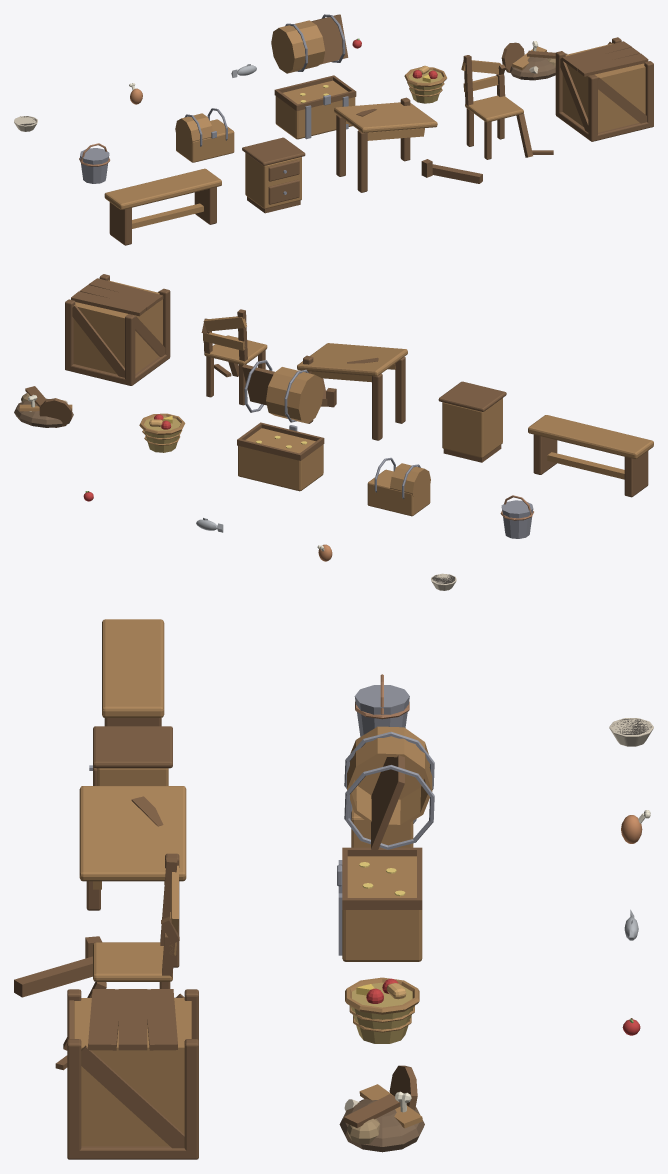
The model's file is Assets 3.glb.
3 views of the same model, one above another, from view 1: azimuth 30°, elevation 25°; view 2: azimuth 150°, elevation 25°; view 3: azimuth 270°, elevation 25° (orthographic). The views are drawn at different scales.
Parts seen in each view (by area): view 1: CrateLarge.001, BrokenTable.001, Bench.001, Nightstand.001, ChestOpen_Base, BrokenChair.001, ChestOpen_Lid.001, ChestSmall.001, JunkPile.001, BasketFood.001, BucketMetal.001; view 2: CrateLarge.001, Bench.001, BrokenTable.001, ChestOpen_Base, Nightstand.001, ChestOpen_Lid.001, BrokenChair.001, ChestSmall.001, JunkPile.001, BasketFood.001, BucketMetal.001; view 3: CrateLarge.001, BrokenTable.001, ChestOpen_Base, ChestOpen_Lid.001, Bench.001, BrokenChair.001, JunkPile.001, Nightstand.001, BasketFood.001, BucketMetal.001, ChestSmall.001, EmptyBowl.001.
Part boxes in pixels (left/top/right/bottom): CrateLarge.001: left=555, top=37, right=653, bottom=141; BrokenTable.001: left=334, top=97, right=482, bottom=192; Bench.001: left=104, top=168, right=221, bottom=245; Nightstand.001: left=242, top=137, right=305, bottom=213; ChestOpen_Base: left=274, top=75, right=356, bottom=139; BrokenChair.001: left=461, top=55, right=553, bottom=159; ChestOpen_Lid.001: left=271, top=14, right=348, bottom=73; ChestSmall.001: left=175, top=108, right=234, bottom=162; JunkPile.001: left=501, top=41, right=567, bottom=80; BasketFood.001: left=404, top=65, right=446, bottom=103; BucketMetal.001: left=79, top=143, right=110, bottom=183; CrateLarge.001: left=65, top=274, right=170, bottom=385; Bench.001: left=528, top=415, right=653, bottom=497; BrokenTable.001: left=297, top=343, right=407, bottom=440; ChestOpen_Base: left=237, top=422, right=324, bottom=491; Nightstand.001: left=438, top=381, right=506, bottom=462; ChestOpen_Lid.001: left=242, top=360, right=323, bottom=423; BrokenChair.001: left=201, top=309, right=267, bottom=405; ChestSmall.001: left=367, top=457, right=430, bottom=516; JunkPile.001: left=14, top=386, right=73, bottom=427; BasketFood.001: left=139, top=413, right=185, bottom=452; BucketMetal.001: left=500, top=495, right=533, bottom=538; CrateLarge.001: left=67, top=989, right=198, bottom=1159; BrokenTable.001: left=14, top=786, right=186, bottom=997; ChestOpen_Base: left=337, top=847, right=422, bottom=961; ChestOpen_Lid.001: left=344, top=726, right=434, bottom=851; Bench.001: left=102, top=619, right=164, bottom=726; BrokenChair.001: left=55, top=857, right=179, bottom=1070; JunkPile.001: left=339, top=1065, right=424, bottom=1152; Nightstand.001: left=89, top=726, right=172, bottom=785; BasketFood.001: left=345, top=977, right=419, bottom=1043; BucketMetal.001: left=354, top=674, right=409, bottom=736; ChestSmall.001: left=349, top=800, right=416, bottom=847; EmptyBowl.001: left=609, top=718, right=653, bottom=746.
Size of the model in its own units: 6.17 by 1.19 by 3.59.
